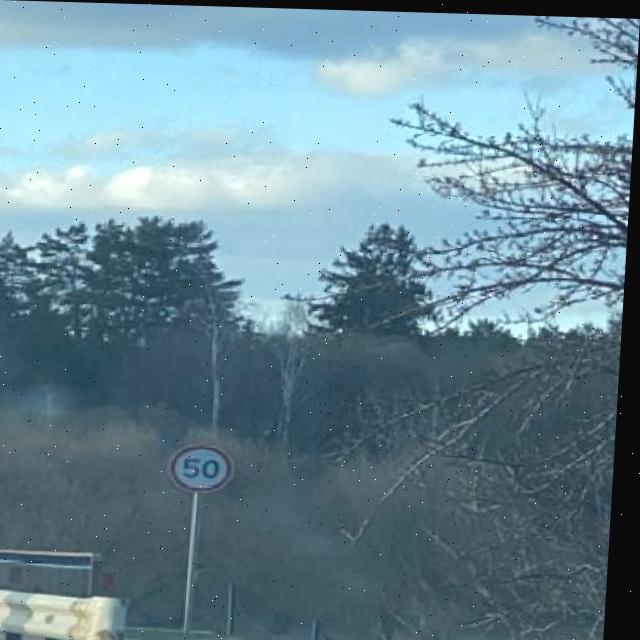Speed limit 50: (170, 438, 244, 495)
